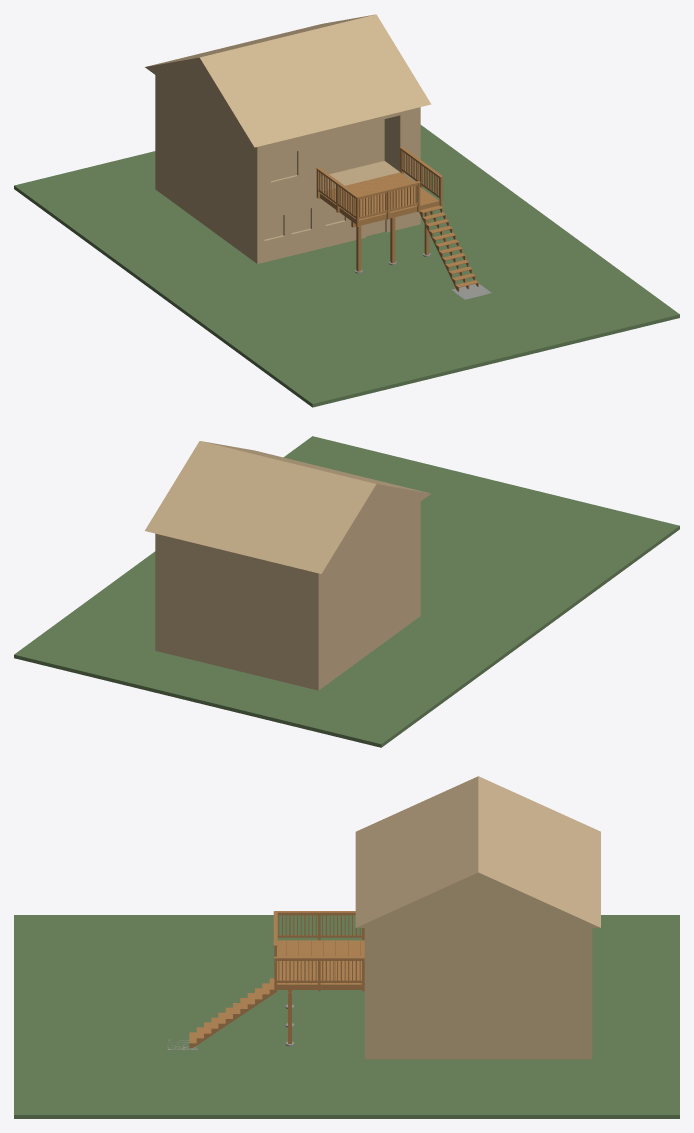
File: deck.glb
3 renders of one model, top to bottom at view 1: azimuth 30°, elevation 25°; view 2: azimuth 150°, elevation 25°; view 3: azimuth 270°, elevation 25°, orthographic. The views are drawn at different scales.
Visible parts, largest first — view 1: Bow Street deck; view 2: Bow Street deck; view 3: Bow Street deck.
Part boxes in pixels (x1,y1,x2,y2): Bow Street deck: (14,14,679,407); Bow Street deck: (14,436,679,747); Bow Street deck: (14,776,679,1118).
Bounding box in the file's own units: 16.46 × 7.52 × 23.16.
